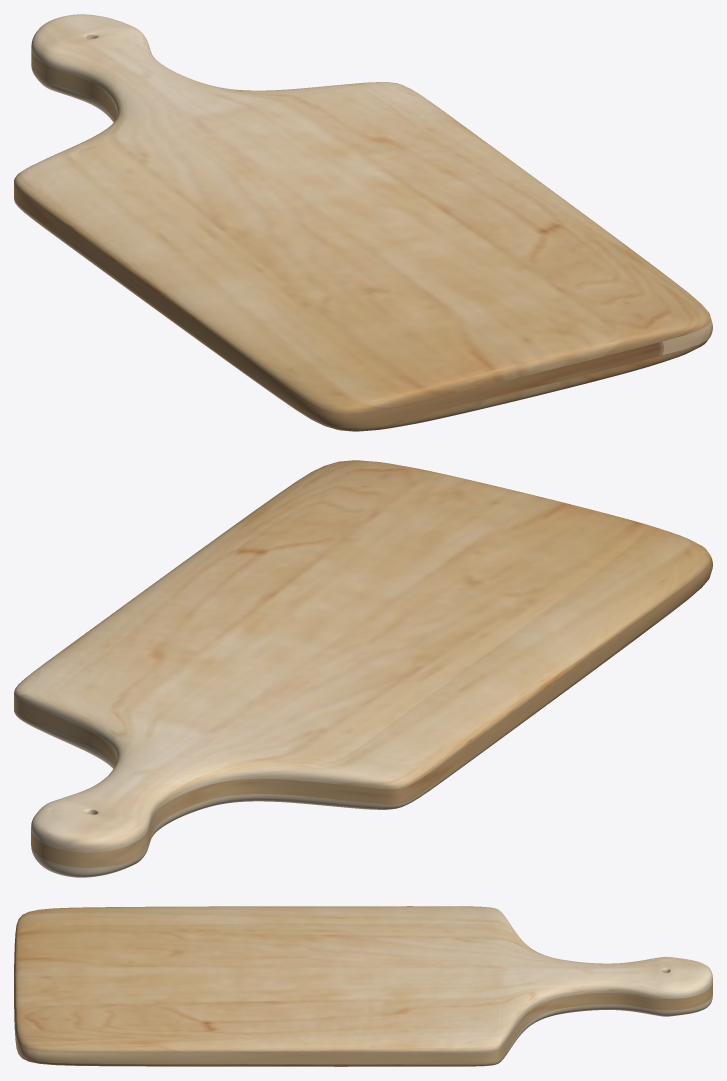
File: obj_cutting_board_82284b.glb
3 views of the same model, one above another, from view 1: azimuth 30°, elevation 25°; view 2: azimuth 150°, elevation 25°; view 3: azimuth 270°, elevation 25° (orthographic). The views are drawn at different scales.
Visible parts, largest first — view 1: obj_cutting_board_82284b; view 2: obj_cutting_board_82284b; view 3: obj_cutting_board_82284b.
Part boxes in pixels (box(x1,y1,x2,y2)): obj_cutting_board_82284b: box(14, 14, 712, 431); obj_cutting_board_82284b: box(14, 460, 712, 877); obj_cutting_board_82284b: box(14, 906, 712, 1066).
Bounding box in the file's own units: 0.1947 × 0.0209 × 0.4.
Materials: 1 (1 with a texture image).
